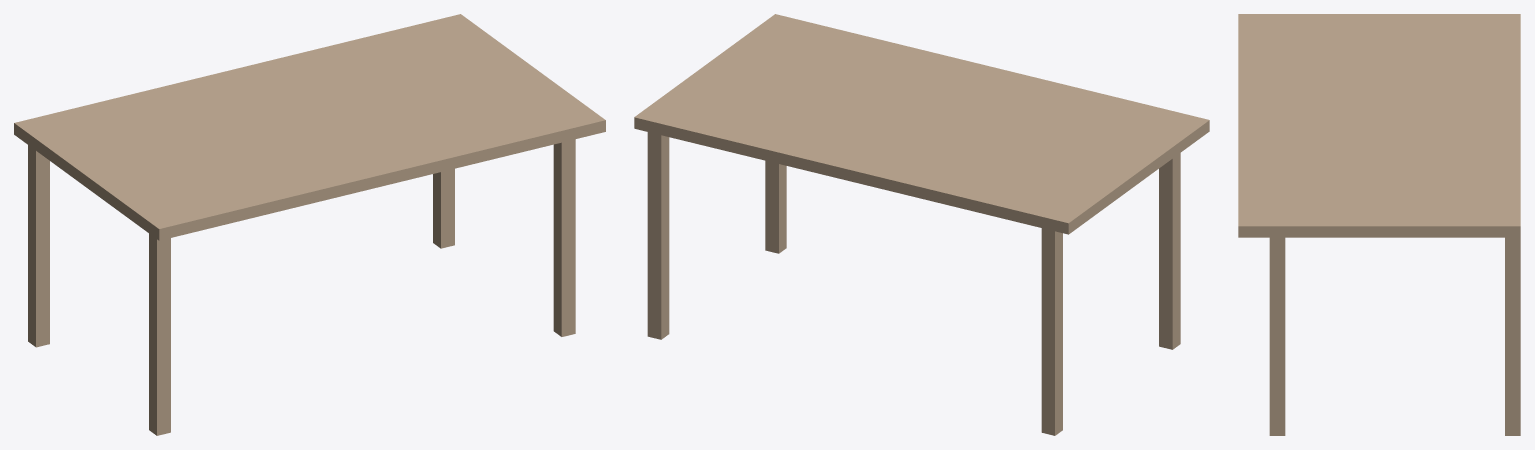
The model's file is table_dining_4.glb.
The picture shows the model from 3 angles, left to right: view 1: azimuth 30°, elevation 25°; view 2: azimuth 150°, elevation 25°; view 3: azimuth 270°, elevation 25°; orthographic projection. The views are drawn at different scales.
Visible parts, largest first — view 1: table_dining_4; view 2: table_dining_4; view 3: table_dining_4.
Part boxes in pixels (x1,y1,x2,y2): table_dining_4: (14,14,605,435); table_dining_4: (634,14,1209,435); table_dining_4: (1238,14,1520,435).
Size of what is drawn, in the model's own units: 1.6 by 0.76 by 0.9.
